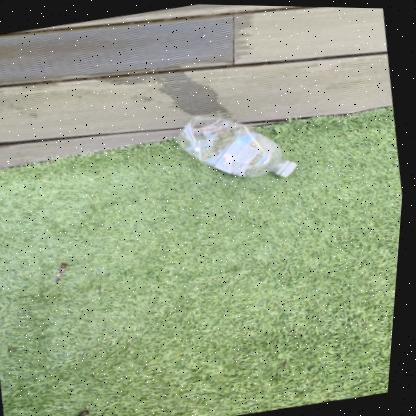Plastic: (179, 115, 298, 175)
